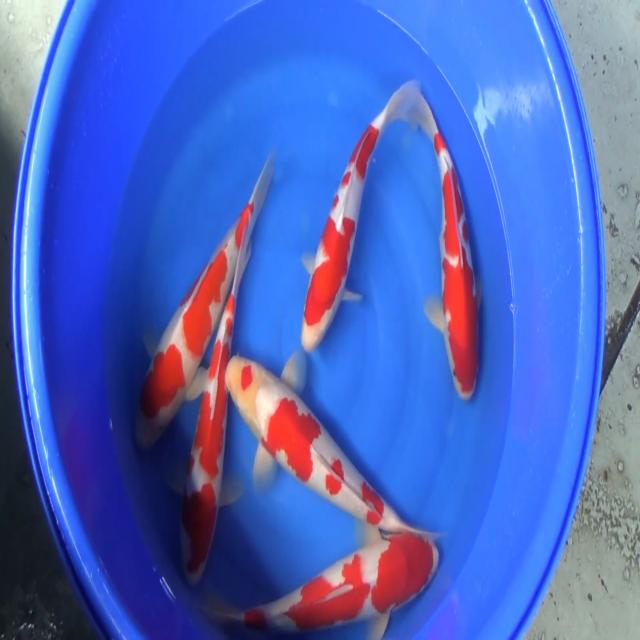Kohaku: (133, 147, 276, 453), (224, 351, 445, 544), (300, 76, 422, 352), (164, 217, 256, 581), (404, 83, 488, 403), (202, 529, 440, 638)
